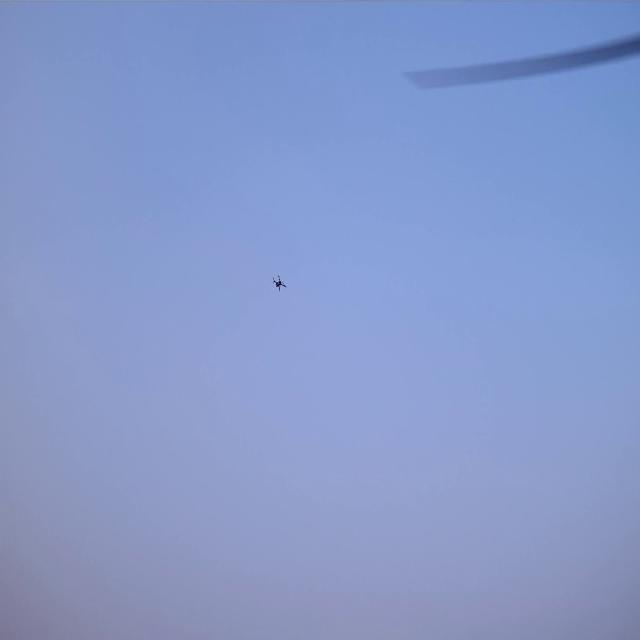UAV: (273, 276, 285, 289)
